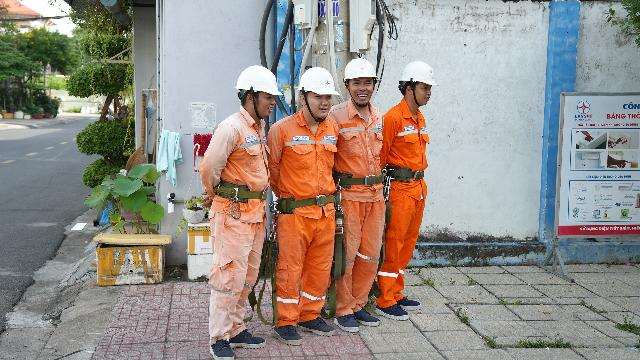harness: (327, 159, 393, 193), (204, 177, 270, 206), (274, 190, 349, 214), (386, 161, 432, 188)
helmet: (230, 58, 289, 105), (297, 64, 346, 100), (396, 58, 442, 90), (341, 59, 384, 89)
shoes: (231, 317, 268, 359), (269, 316, 302, 354), (298, 310, 336, 340), (380, 297, 414, 326), (202, 333, 236, 360), (334, 303, 360, 335), (358, 303, 387, 331), (396, 285, 424, 313)
